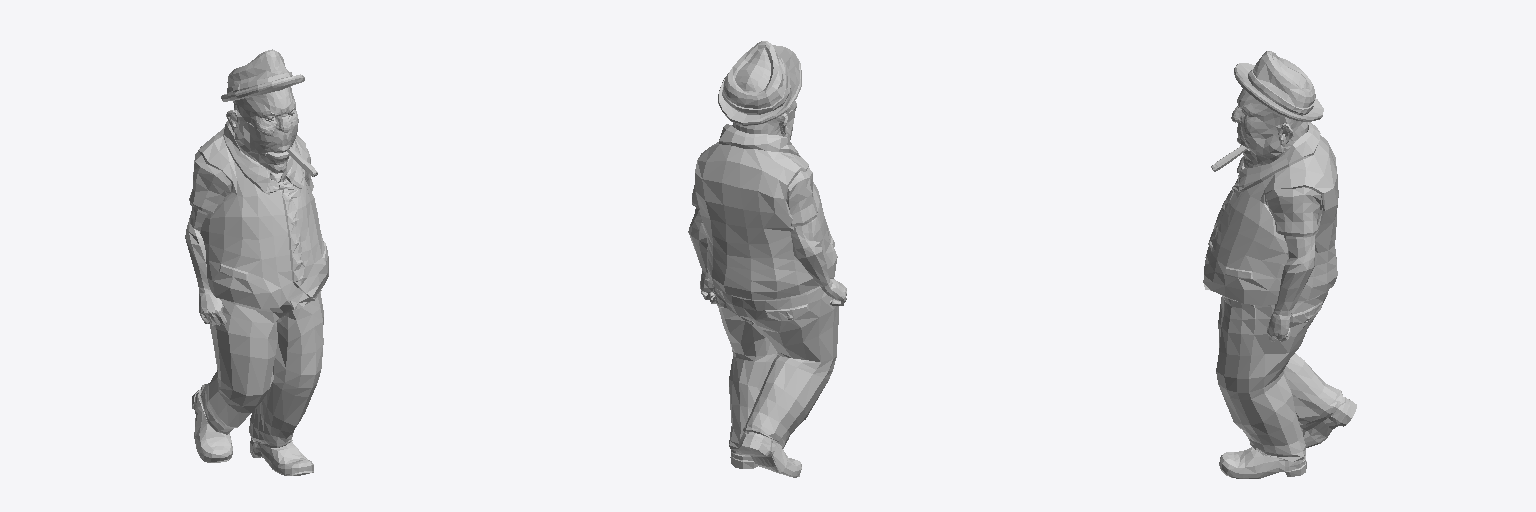
The model's file is walk0016.obj.
3 views of the same model, side by side, from view 1: azimuth 30°, elevation 25°; view 2: azimuth 150°, elevation 25°; view 3: azimuth 270°, elevation 25° (orthographic).
Parts seen in each view (by area): view 1: mixamorig:Jacket_Geo, mixamorig:Pants_Geo, mixamorig:Head_Geo, mixamorig:Shoes_Geo, mixamorig:Hat_Geo, mixamorig:Arms_Geo; view 2: mixamorig:Jacket_Geo, mixamorig:Pants_Geo, mixamorig:Hat_Geo, mixamorig:Arms_Geo, mixamorig:Shoes_Geo, mixamorig:Head_Geo; view 3: mixamorig:Jacket_Geo, mixamorig:Pants_Geo, mixamorig:Hat_Geo, mixamorig:Head_Geo, mixamorig:Shoes_Geo, mixamorig:Arms_Geo.
Boxes of the visible parts, box(x1,y1,x2,y2) form: mixamorig:Jacket_Geo: box(189, 121, 328, 309); mixamorig:Pants_Geo: box(198, 292, 323, 447); mixamorig:Head_Geo: box(226, 86, 298, 181); mixamorig:Shoes_Geo: box(192, 390, 313, 475); mixamorig:Hat_Geo: box(221, 49, 304, 101); mixamorig:Arms_Geo: box(185, 206, 321, 325); mixamorig:Jacket_Geo: box(692, 124, 837, 299); mixamorig:Pants_Geo: box(714, 286, 838, 451); mixamorig:Hat_Geo: box(718, 41, 801, 125); mixamorig:Arms_Geo: box(688, 208, 846, 305); mixamorig:Shoes_Geo: box(730, 432, 801, 477); mixamorig:Head_Geo: box(732, 101, 796, 139); mixamorig:Jacket_Geo: box(1203, 122, 1338, 305); mixamorig:Pants_Geo: box(1216, 290, 1342, 461); mixamorig:Hat_Geo: box(1234, 51, 1323, 121); mixamorig:Head_Geo: box(1231, 89, 1307, 167); mixamorig:Shoes_Geo: box(1219, 397, 1356, 478); mixamorig:Arms_Geo: box(1267, 235, 1314, 341).
Bounding box in the file's own units: 0.6598 × 1.97 × 0.6593.